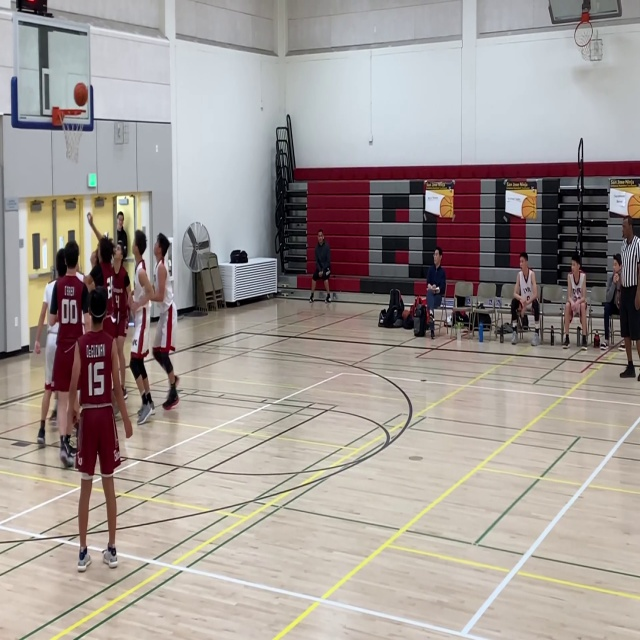Basketball: (74, 82, 88, 106), (627, 195, 640, 219)
